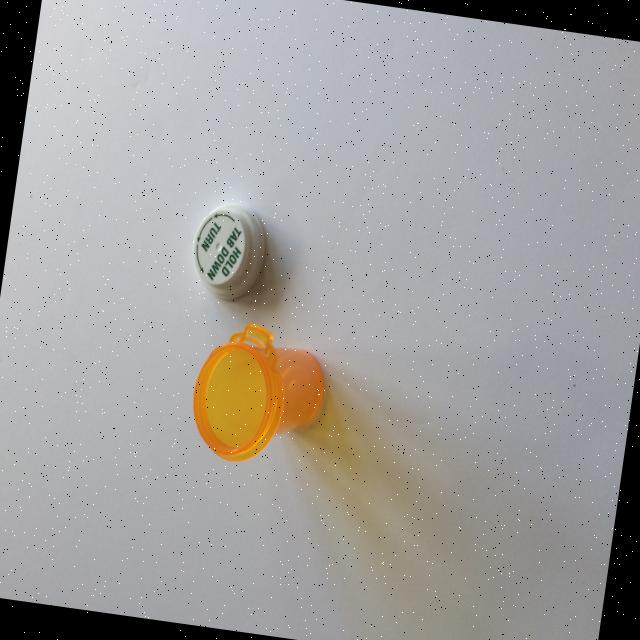plastic: (185, 316, 332, 474)
